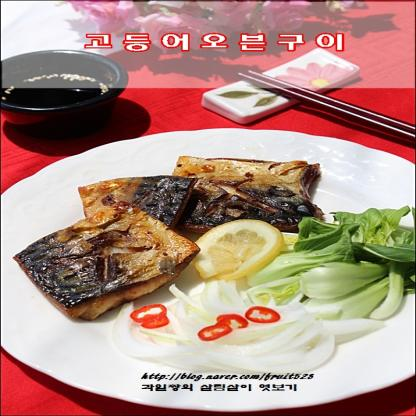Peixe: (18, 146, 340, 316)
